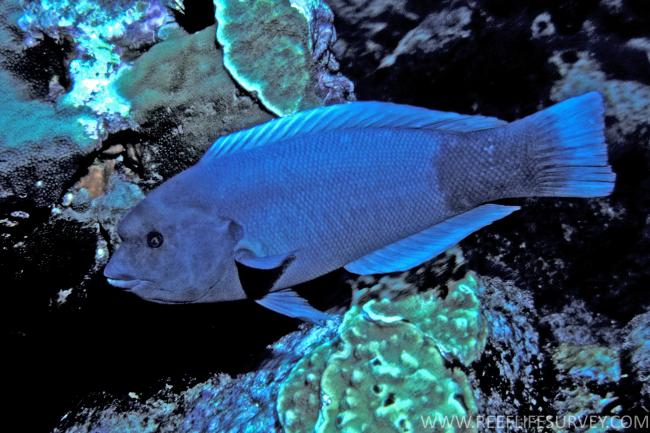fish: (105, 89, 616, 319)
